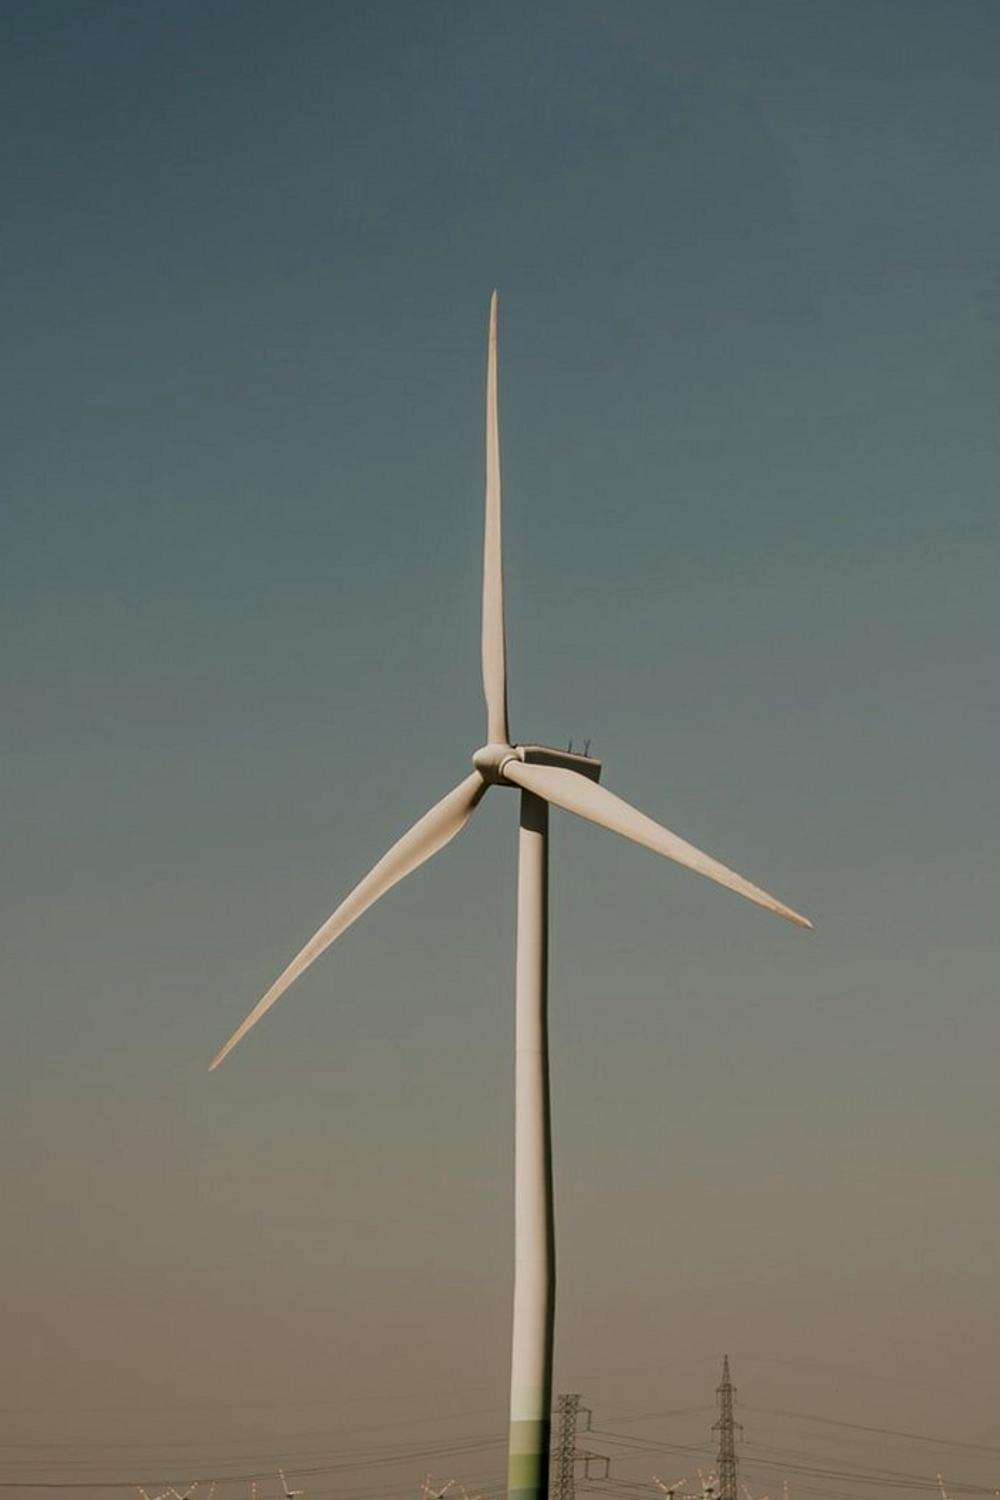working: (325, 371, 679, 1051)
